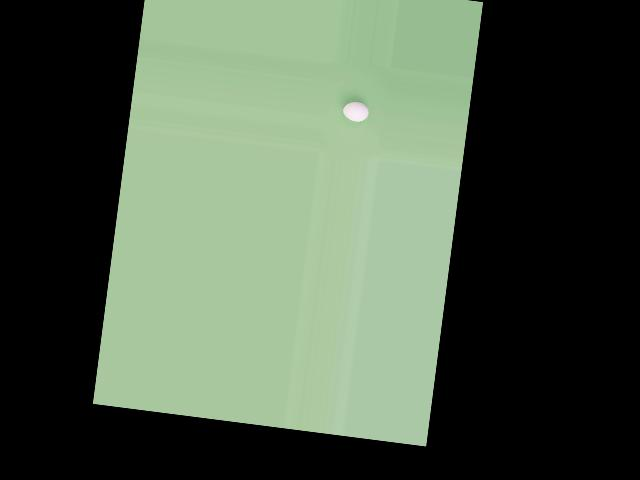egg: (342, 100, 370, 123)
